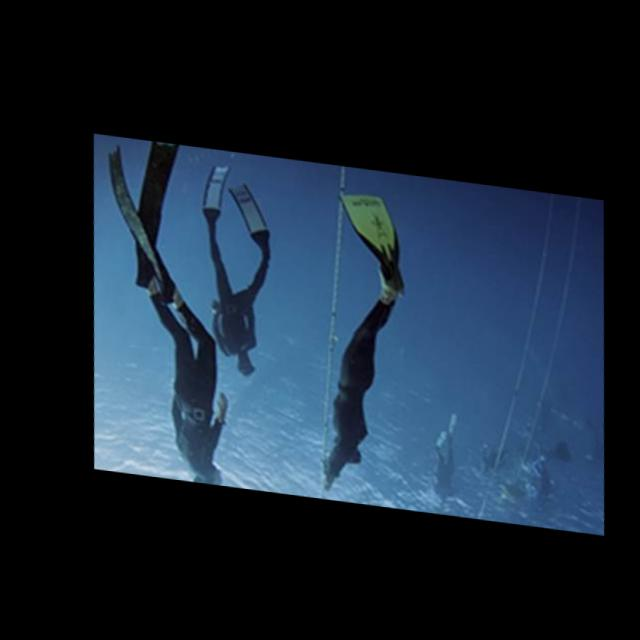human: (66, 135, 252, 486), (278, 185, 422, 507), (173, 173, 288, 385)
